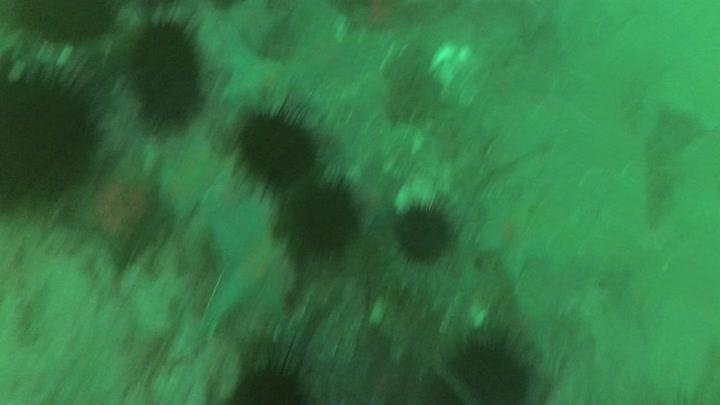echinus: (0, 60, 103, 214), (123, 18, 205, 129), (234, 105, 321, 190), (445, 325, 538, 404), (285, 178, 362, 257), (228, 341, 315, 404), (8, 1, 120, 48), (390, 199, 458, 265), (382, 62, 445, 126)
scallop: (425, 39, 485, 106)
starfish: (199, 187, 298, 328), (63, 155, 171, 270), (215, 29, 299, 118), (474, 190, 553, 283), (153, 132, 225, 225), (348, 168, 405, 232)
